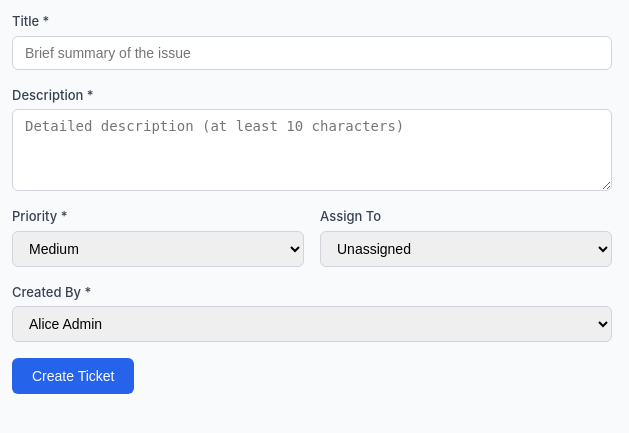
Scenario: TicketForm › shows validation error for short description
The width and height of the screenshot is (629, 433).
Type "Valid title" into the field labelled "Title *" at (312, 52), box [12,36,612,70]
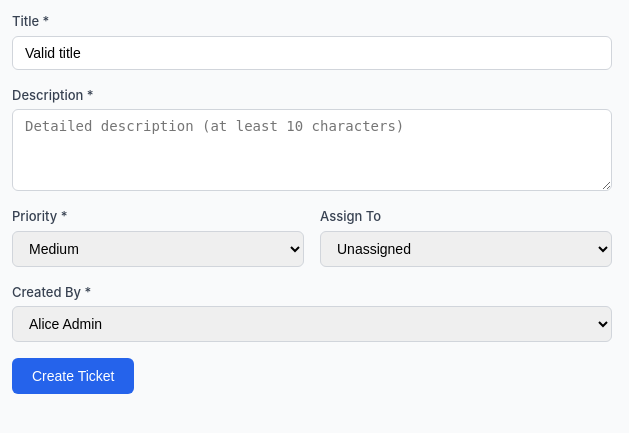
Type "Short" into the text box labelled "Description *" at (312, 150), box [12,109,612,191]
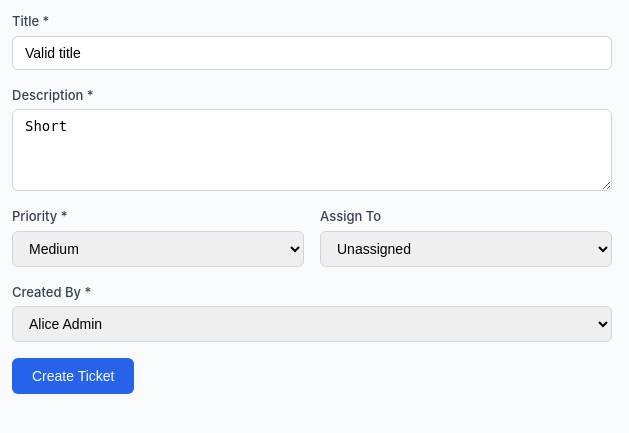
Click the button "Create Ticket" at (73, 376), box [12,358,134,394]
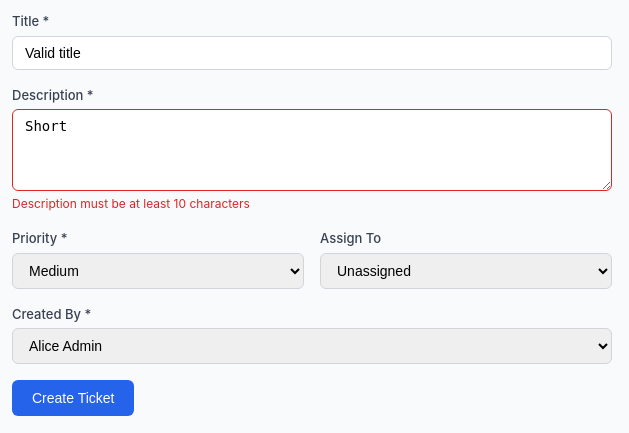
Result: the text "Description must be at least 10 characters" is shown at [12,196,250,211]
